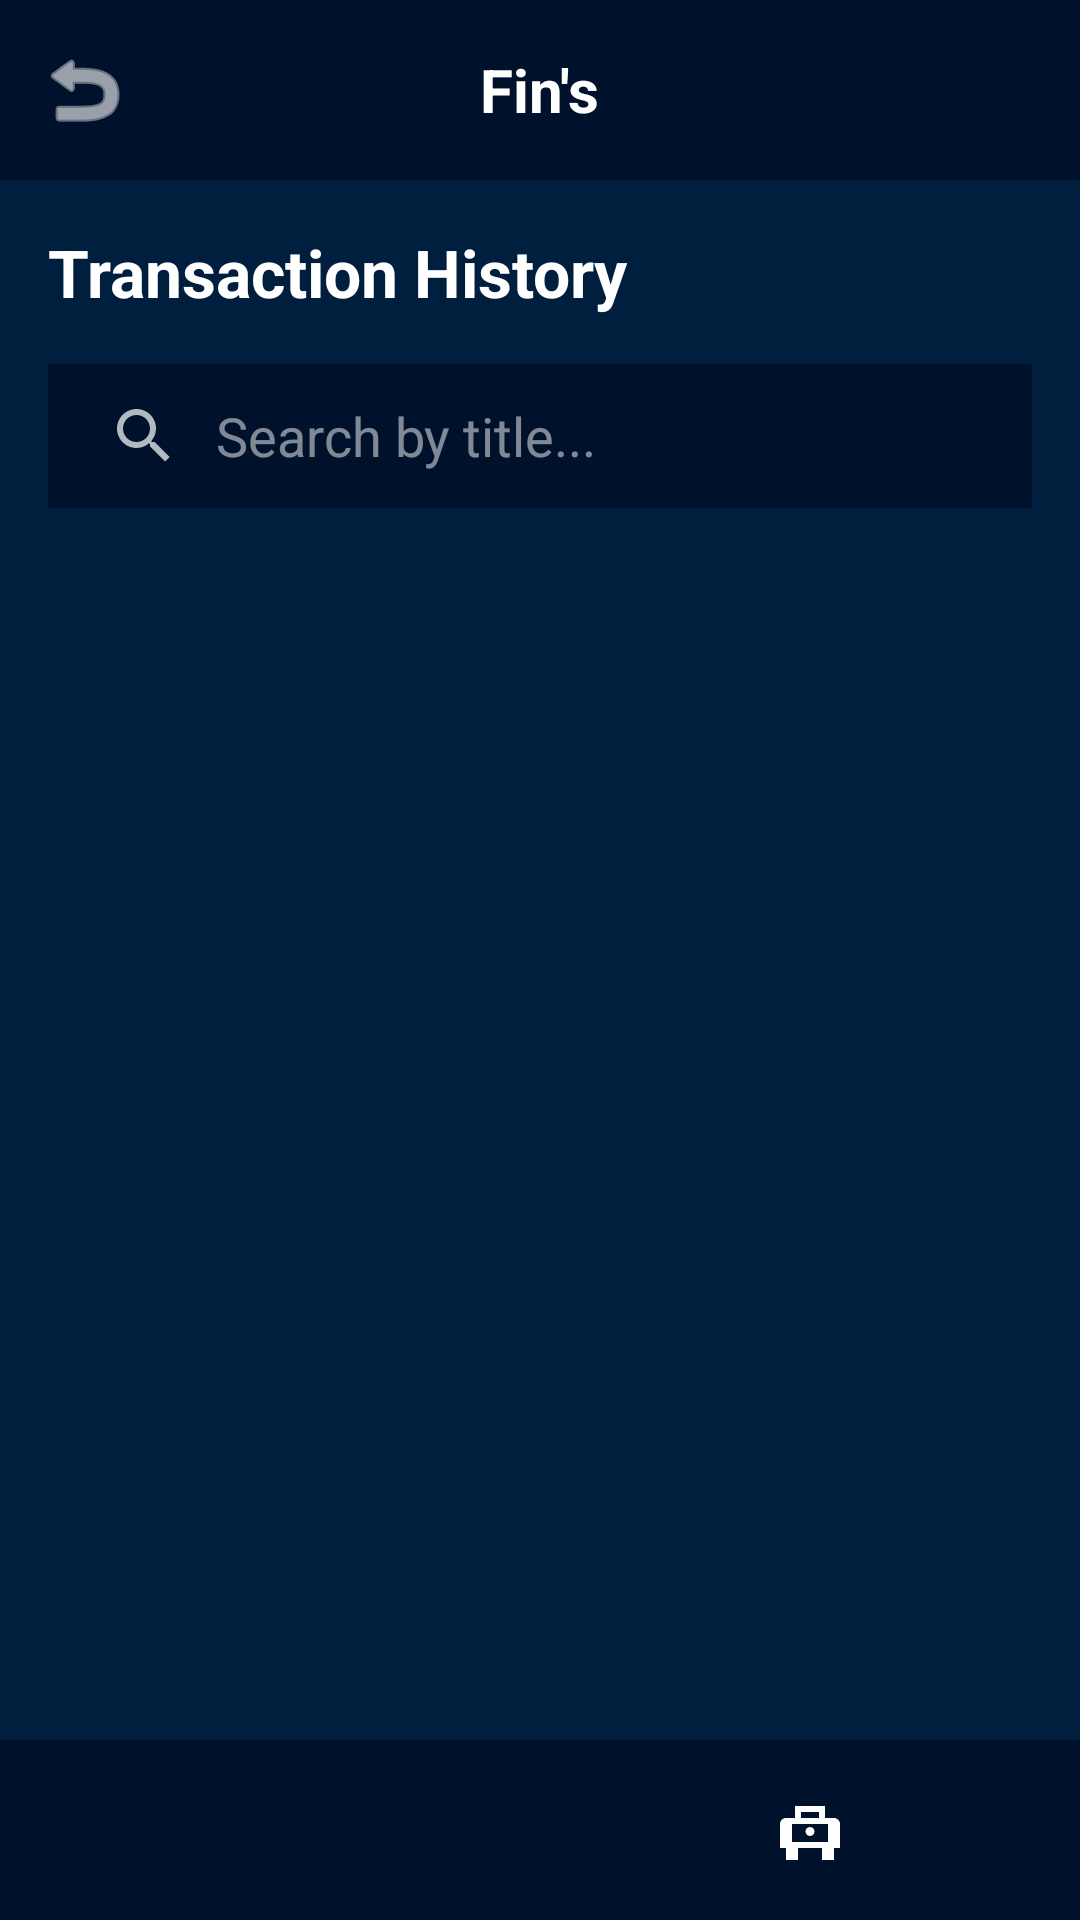

Where to tap for icons on this 1080w x 1920h app screen, as (x,y):
Back: (85,90)
